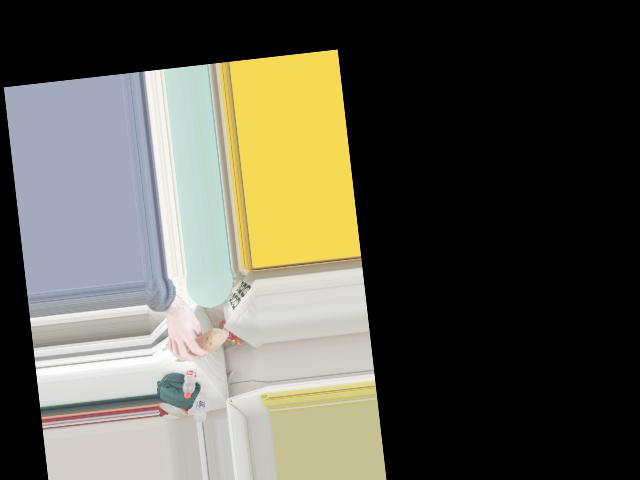sweet_potato: (170, 332, 226, 362)
